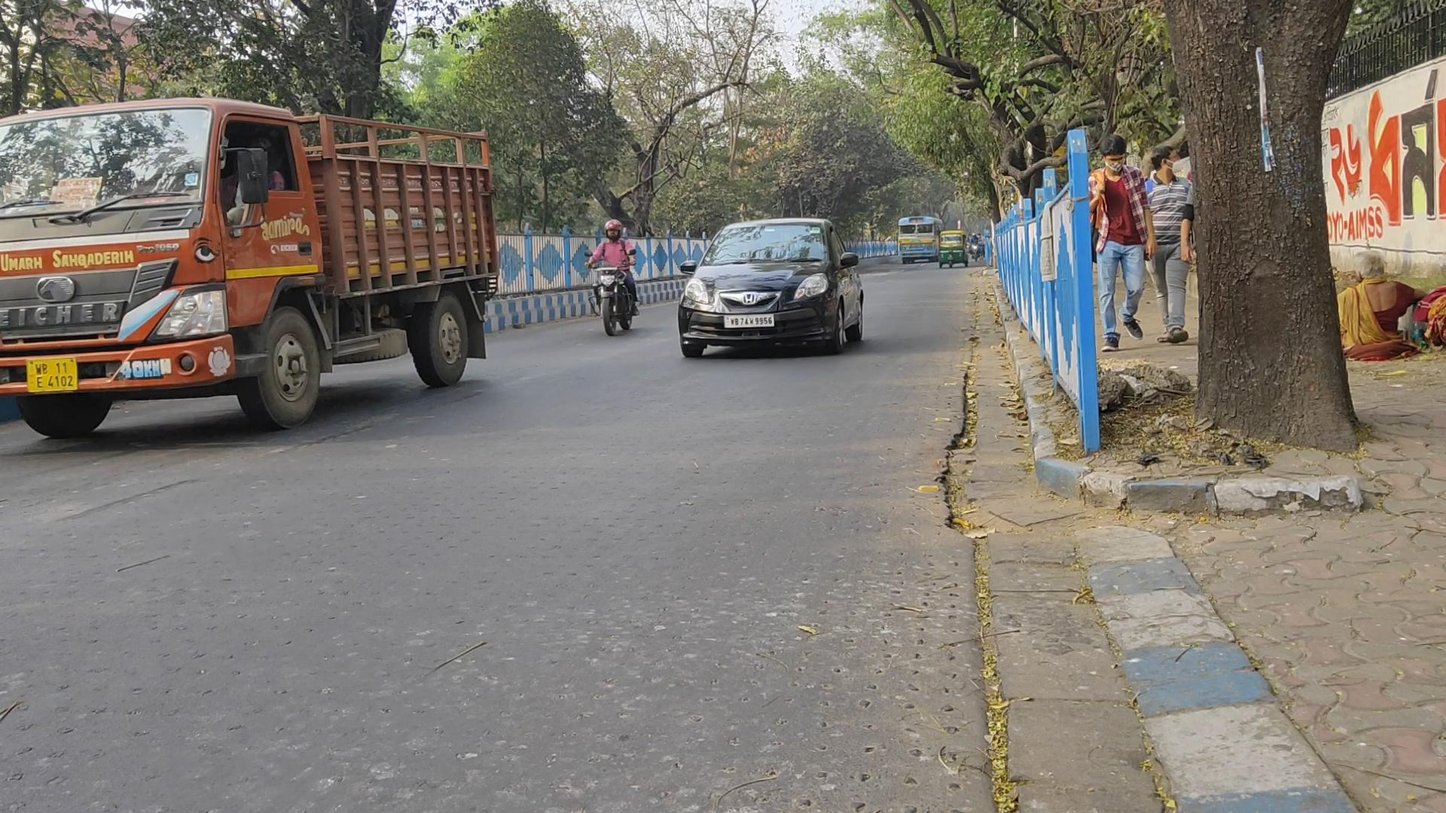Auto: (938, 227, 971, 266)
Bus: (895, 215, 944, 264)
bike: (584, 219, 636, 335), (969, 232, 981, 262)
car: (679, 218, 865, 361)
van: (1, 99, 495, 438)
